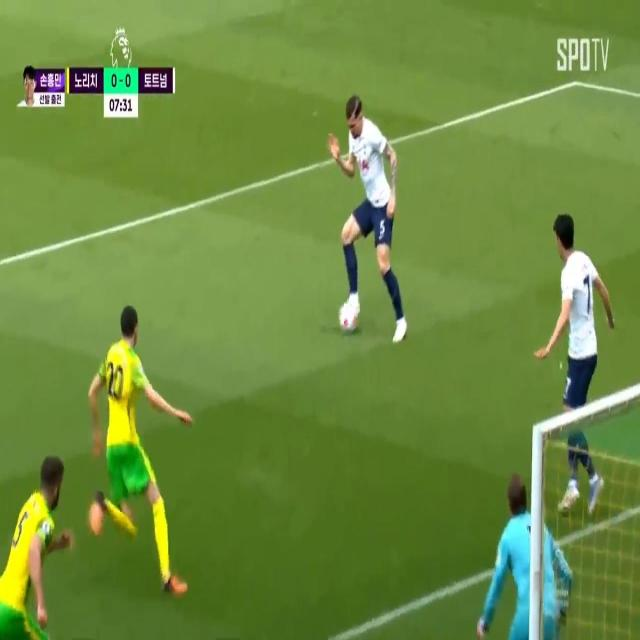ball: (337, 287, 357, 341)
player: (85, 301, 185, 594), (534, 201, 608, 527), (323, 87, 409, 348), (0, 453, 72, 640)
